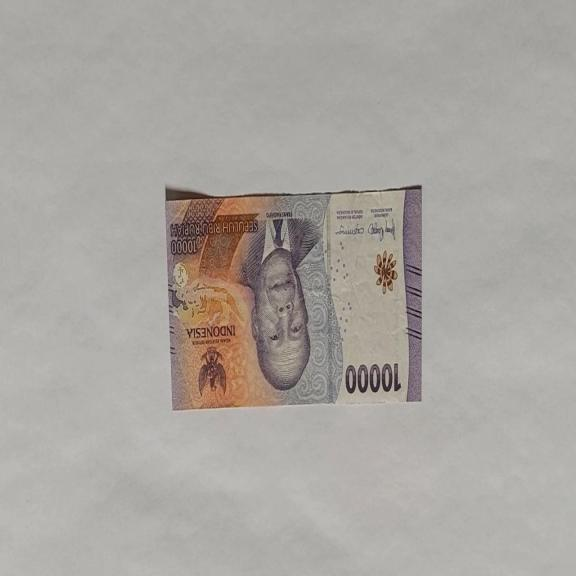Kertas: (165, 184, 422, 410)
